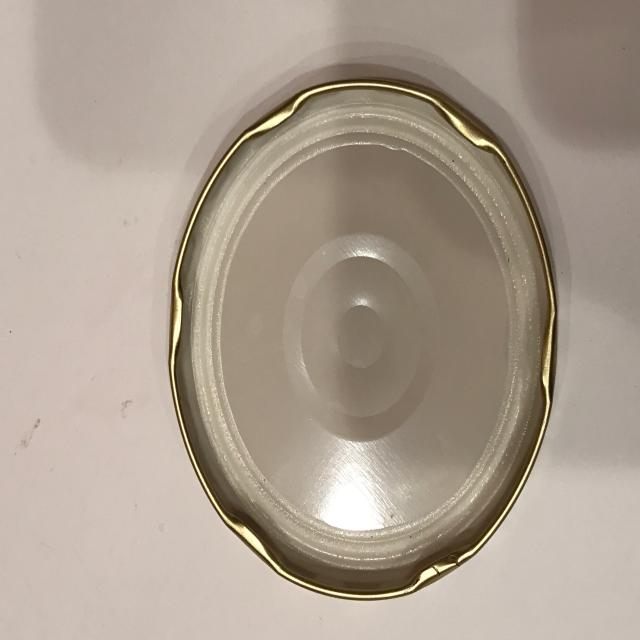metal: (168, 77, 558, 600)
